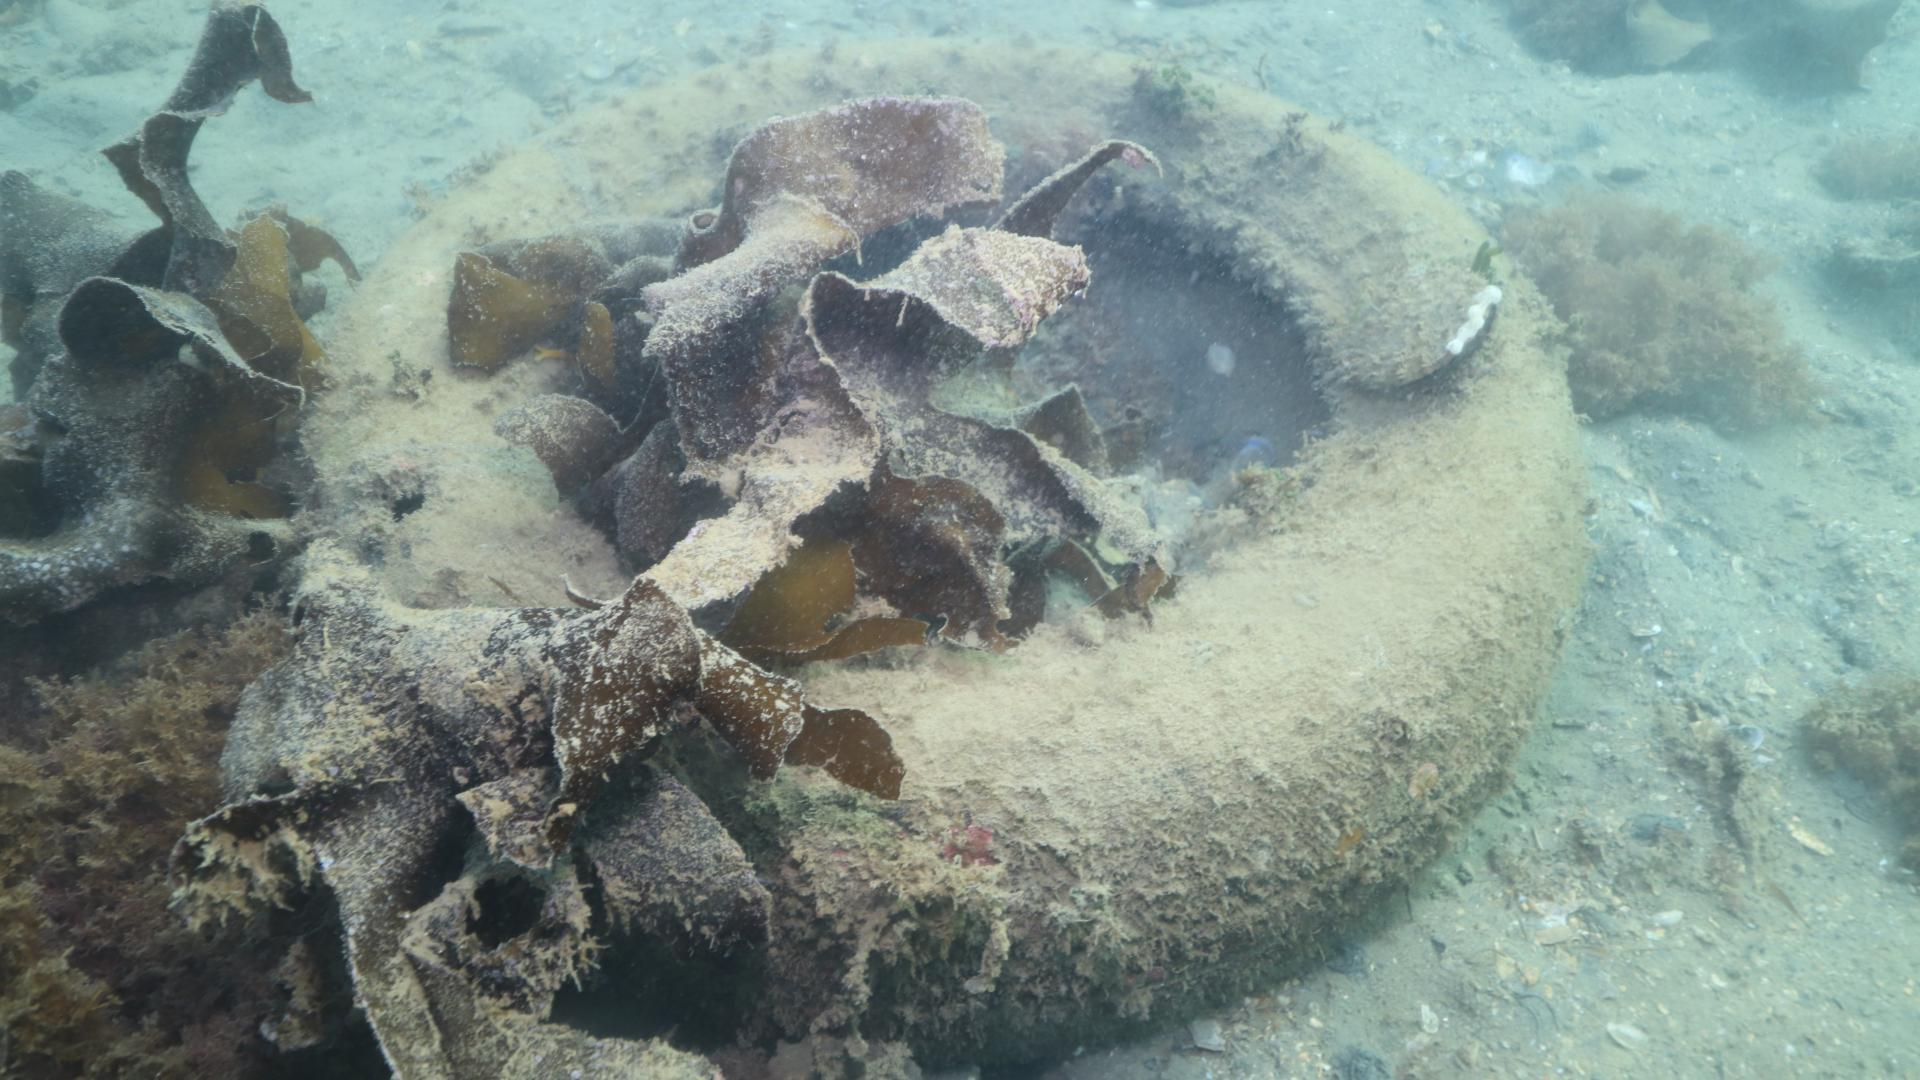tire: (310, 37, 1576, 1048)
